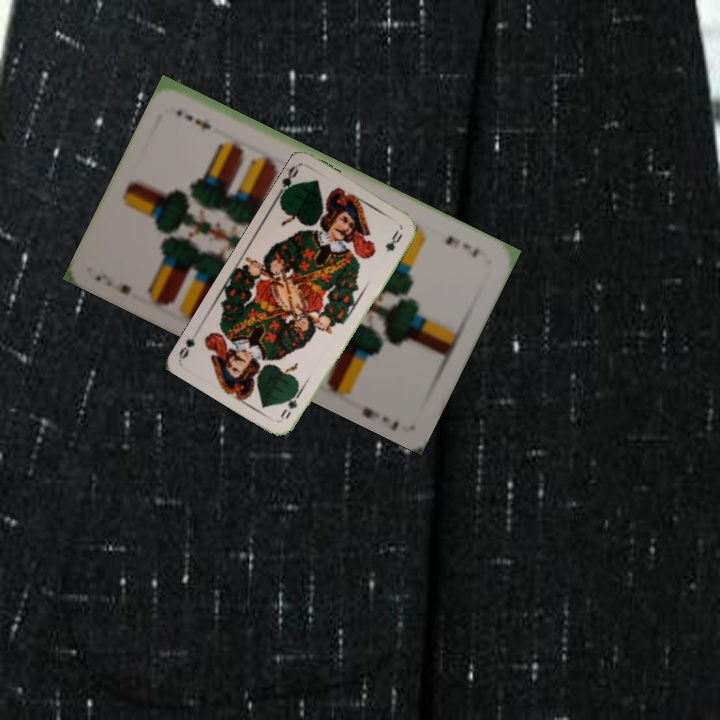E7: (441, 232, 483, 261), (90, 270, 134, 297)
GO: (274, 161, 301, 200), (277, 385, 305, 422)
